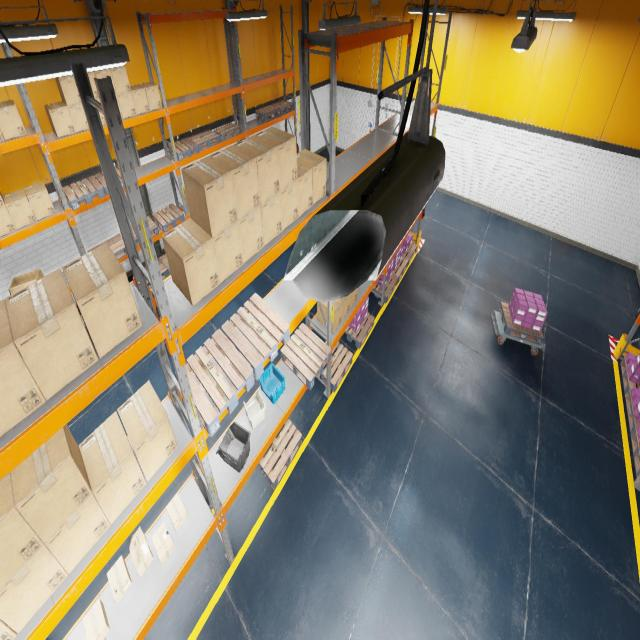box: (5, 268, 98, 400), (11, 424, 92, 543), (62, 243, 142, 358), (44, 449, 110, 574), (79, 411, 146, 524), (0, 300, 46, 438), (0, 544, 68, 633), (117, 381, 177, 481), (0, 473, 44, 591), (162, 218, 220, 306), (181, 156, 238, 238), (209, 144, 260, 220), (233, 135, 280, 204), (254, 126, 297, 190), (213, 221, 243, 283), (296, 149, 326, 204), (238, 206, 264, 264), (3, 188, 36, 230), (106, 555, 132, 603), (130, 526, 154, 577), (24, 182, 56, 220), (260, 191, 282, 246), (44, 101, 76, 138), (82, 598, 110, 639), (0, 99, 27, 140), (151, 521, 175, 565), (8, 269, 44, 295), (296, 160, 312, 217), (280, 180, 298, 230), (317, 298, 342, 333), (166, 493, 188, 532), (55, 74, 81, 106), (139, 82, 162, 111), (110, 65, 131, 94), (68, 103, 89, 132), (94, 68, 117, 94), (130, 85, 150, 114), (0, 202, 16, 237), (117, 91, 137, 119), (0, 619, 17, 639), (87, 71, 99, 99), (96, 99, 106, 124), (342, 294, 350, 321), (115, 95, 123, 119), (350, 288, 357, 309), (184, 187, 188, 207), (0, 191, 5, 207), (0, 129, 4, 141)
pallets: (175, 329, 254, 437), (221, 293, 290, 380), (281, 323, 331, 390), (258, 419, 302, 489), (499, 302, 544, 345), (321, 342, 353, 392), (62, 176, 106, 210), (342, 312, 374, 349), (120, 216, 159, 246), (87, 233, 127, 260), (133, 258, 168, 288), (152, 204, 185, 232), (95, 166, 124, 195), (370, 274, 398, 303), (620, 356, 640, 394), (168, 138, 200, 160), (625, 388, 640, 433), (188, 130, 220, 151), (630, 427, 640, 478), (213, 123, 241, 141), (392, 257, 408, 283), (255, 105, 280, 121), (402, 242, 417, 265), (270, 100, 293, 114), (158, 253, 170, 274)
